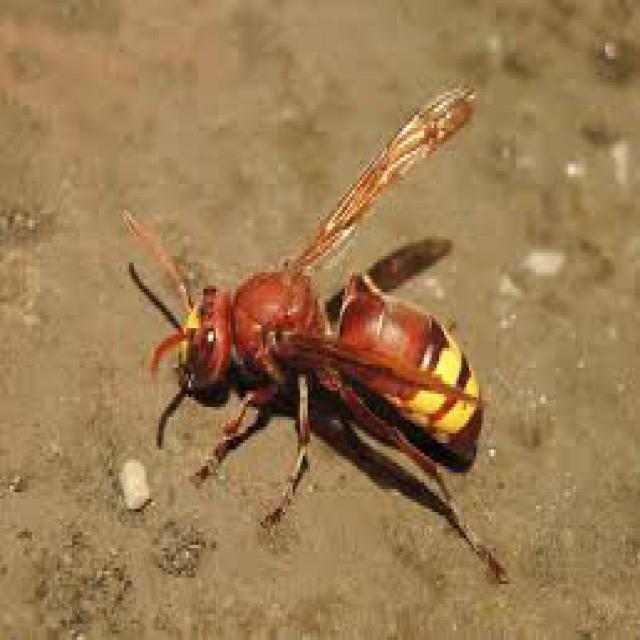Vespa Orientalis: (110, 69, 529, 603)
